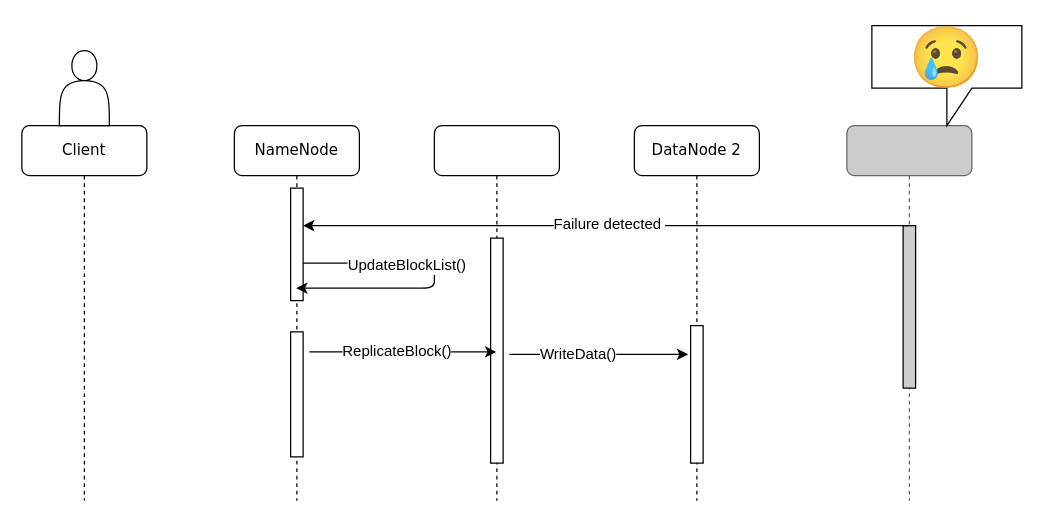
This 1044x523 diagram has some shape labels left out. The box of each missing label's shape, as (x1, y1, x2, y2) in pixels:
DataNode 1: (433, 124, 559, 501)
DataNode 3: (846, 124, 972, 501)
